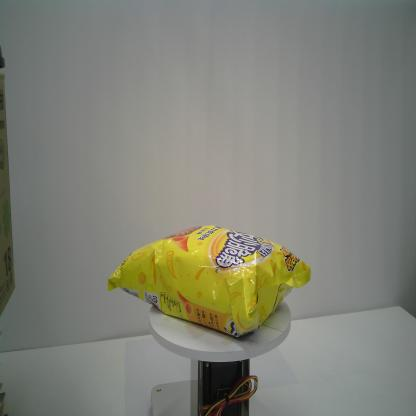Puffed Food: (107, 224, 312, 341)
